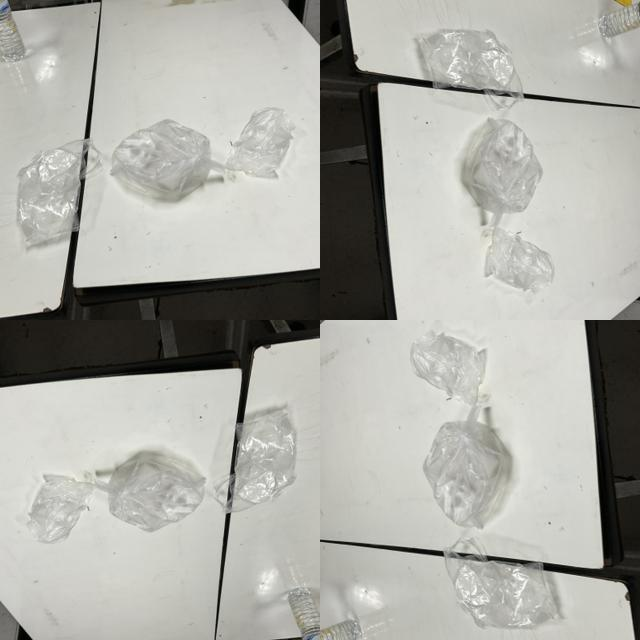Single-layer Plastic: (422, 406, 509, 529), (444, 538, 558, 629), (110, 119, 225, 200), (18, 139, 102, 244), (96, 452, 205, 532), (214, 410, 296, 512), (420, 30, 524, 110), (464, 118, 542, 224), (410, 331, 485, 406), (225, 108, 295, 178), (28, 475, 95, 544), (486, 226, 554, 292)
